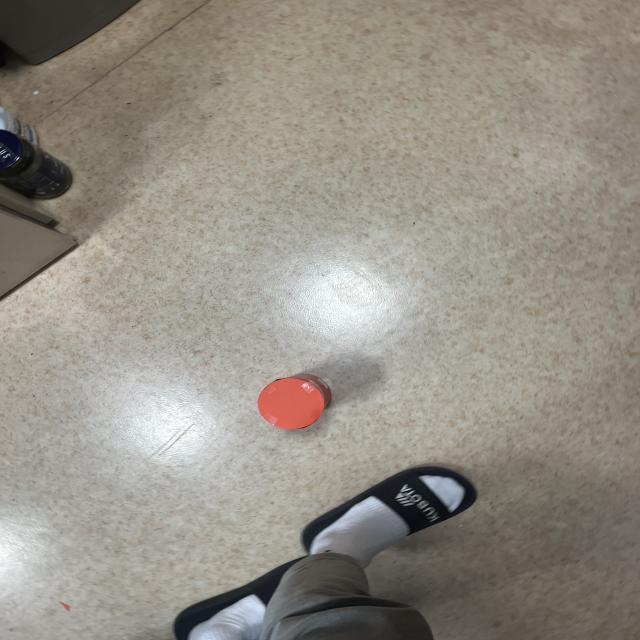przeszkoda: (257, 374, 331, 429)
